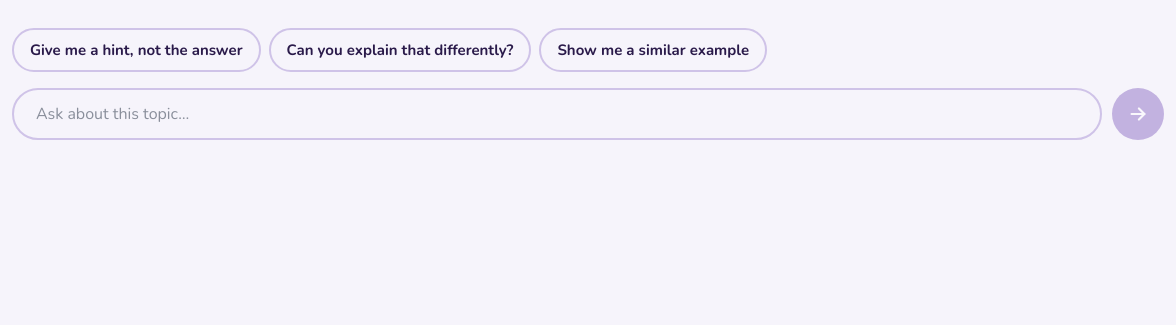
Test: TutorChat › fetches and renders grounding sources once an exchange completes, and reports them upward
Type "why is x = 3?" into the field with placeholder "Ask about this topic…".
click(557, 114); type("why is x = 3?")  # box [12,88,1102,140]
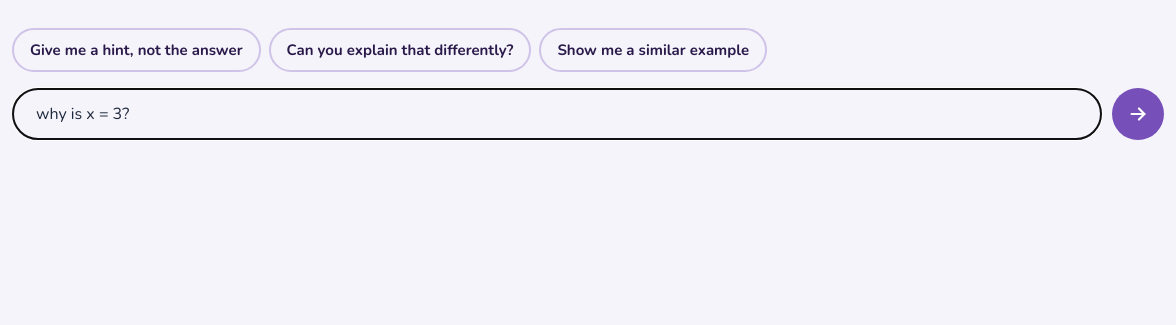
Click the button named "send".
click(1138, 114)  # box [1112,88,1164,140]
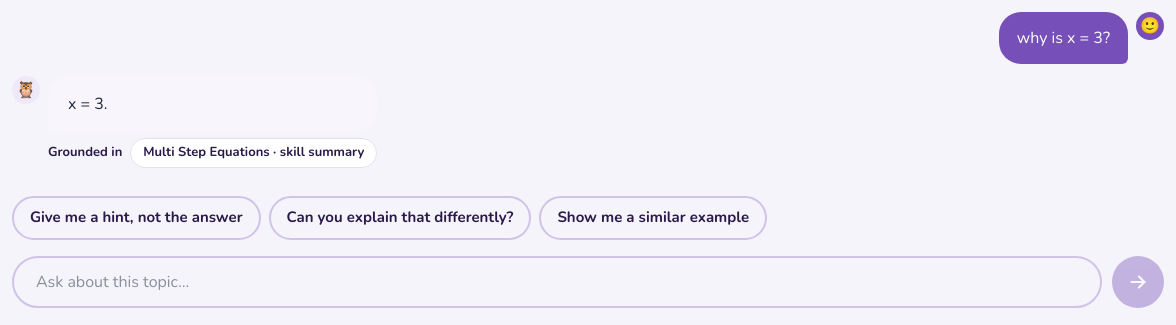
expect the element with test id "tutor-grounded-in" shows "Multi Step Equations · skill summary": met, box [48,138,377,168]
